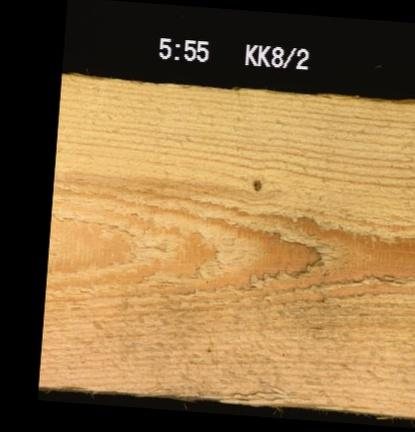dry_knot: (251, 177, 260, 186)
